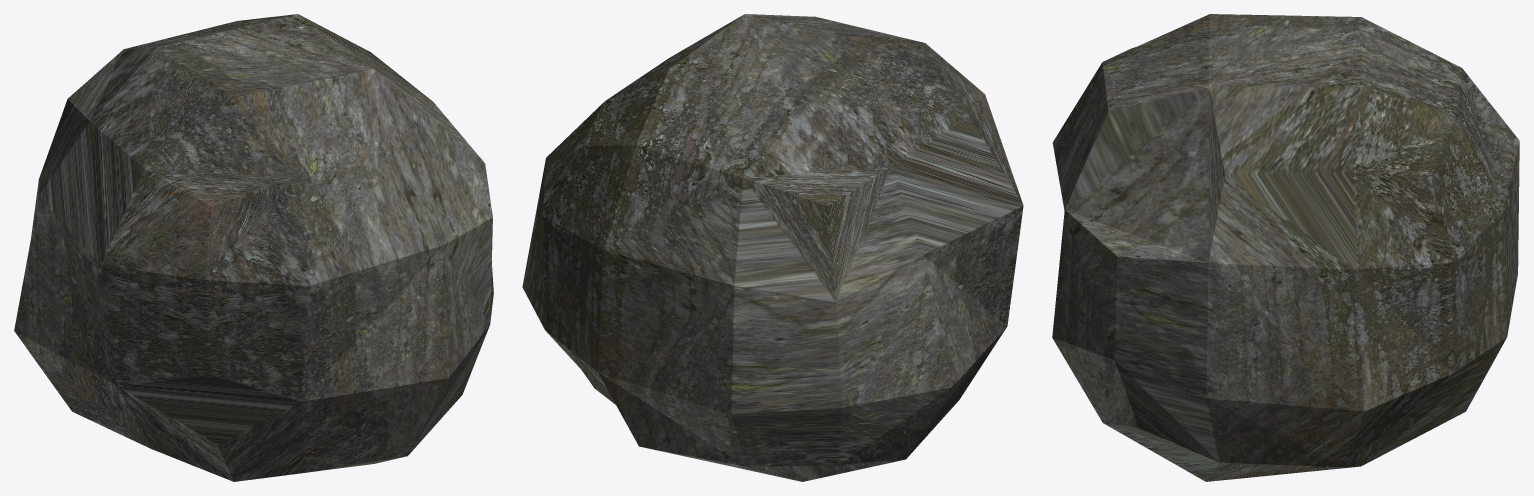
The model's file is rock_05.obj.
The picture shows the model from 3 angles, left to right: view 1: azimuth 30°, elevation 25°; view 2: azimuth 150°, elevation 25°; view 3: azimuth 270°, elevation 25°; orthographic projection.
Parts seen in each view (by area): view 1: rock; view 2: rock; view 3: rock.
Part boxes in pixels (left/top/right/bottom): rock: left=14, top=14, right=493, bottom=481; rock: left=522, top=14, right=1023, bottom=481; rock: left=1052, top=14, right=1519, bottom=481.
Bounding box in the file's own units: 1 × 0.8894 × 0.9407.
Materials: 1 (1 with a texture image).
